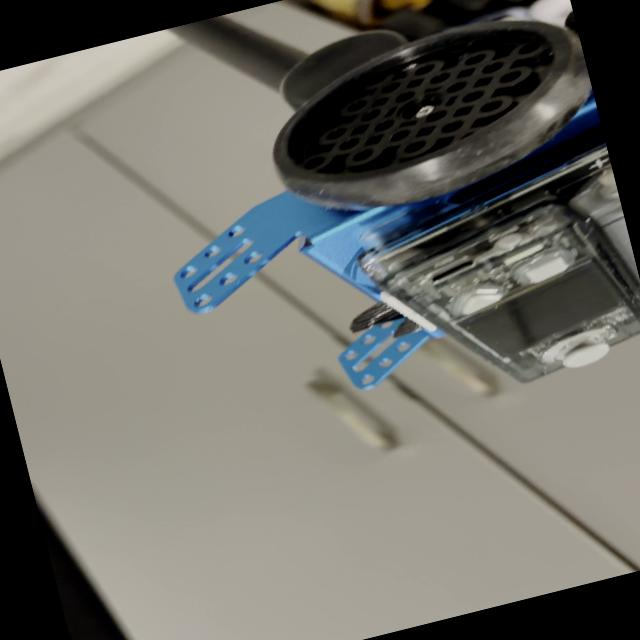mbot-detection: (122, 0, 640, 473)
